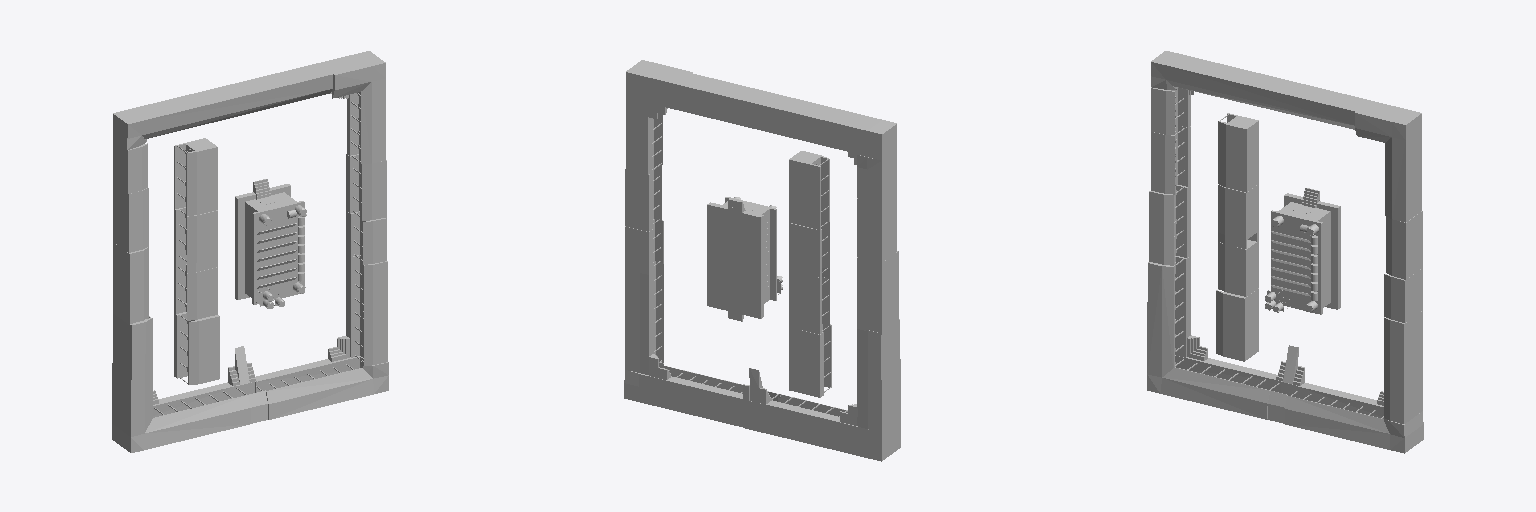
3 views of the same model, side by side, from view 1: azimuth 30°, elevation 25°; view 2: azimuth 150°, elevation 25°; view 3: azimuth 330°, elevation 25° (orthographic).
Visible parts, largest first — view 1: Cube.006_Cube.004, Cube.001_Cube.027, Stairs.001_Stairs.002; view 2: Cube.006_Cube.004, Cube.001_Cube.027, Stairs.001_Stairs.002; view 3: Cube.006_Cube.004, Cube.001_Cube.027, Stairs.001_Stairs.002.
Boxes of the visible parts, <box> form: Cube.006_Cube.004: <box>112,51,388,452</box>; Cube.001_Cube.027: <box>174,138,219,384</box>; Stairs.001_Stairs.002: <box>235,179,306,308</box>; Cube.006_Cube.004: <box>624,60,900,461</box>; Cube.001_Cube.027: <box>789,151,831,397</box>; Stairs.001_Stairs.002: <box>707,197,782,321</box>; Cube.006_Cube.004: <box>1147,51,1423,453</box>; Cube.001_Cube.027: <box>1216,113,1258,361</box>; Stairs.001_Stairs.002: <box>1265,188,1340,314</box>.
Bounding box in the file's own units: 11.11 × 13.48 × 2.28.